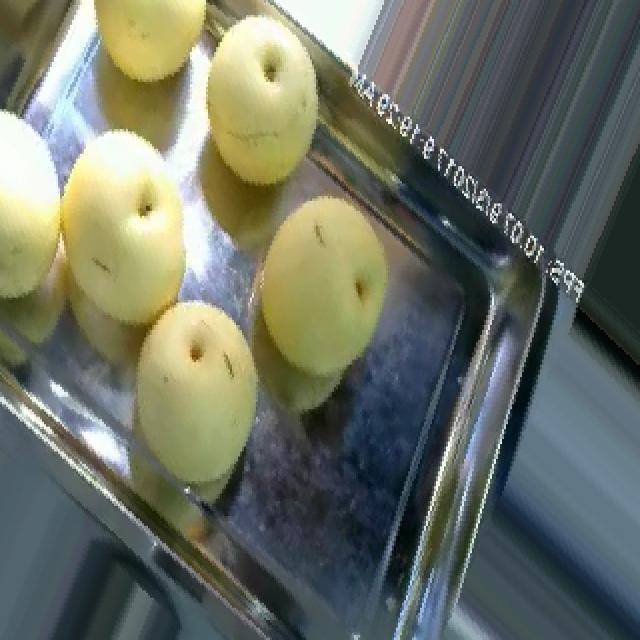Fruit: (226, 171, 434, 427), (22, 114, 220, 357), (98, 275, 280, 506), (166, 0, 350, 211), (54, 0, 230, 107), (0, 139, 62, 327)
